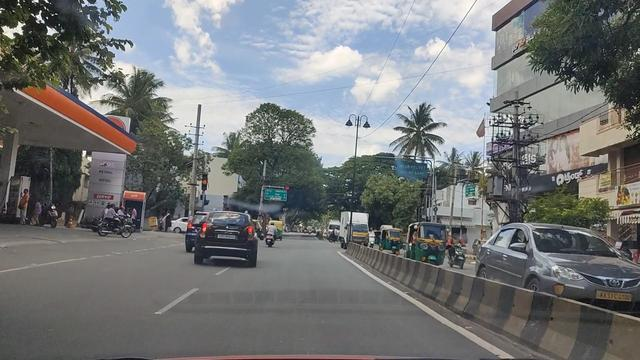LMV: (168, 205, 262, 266)
